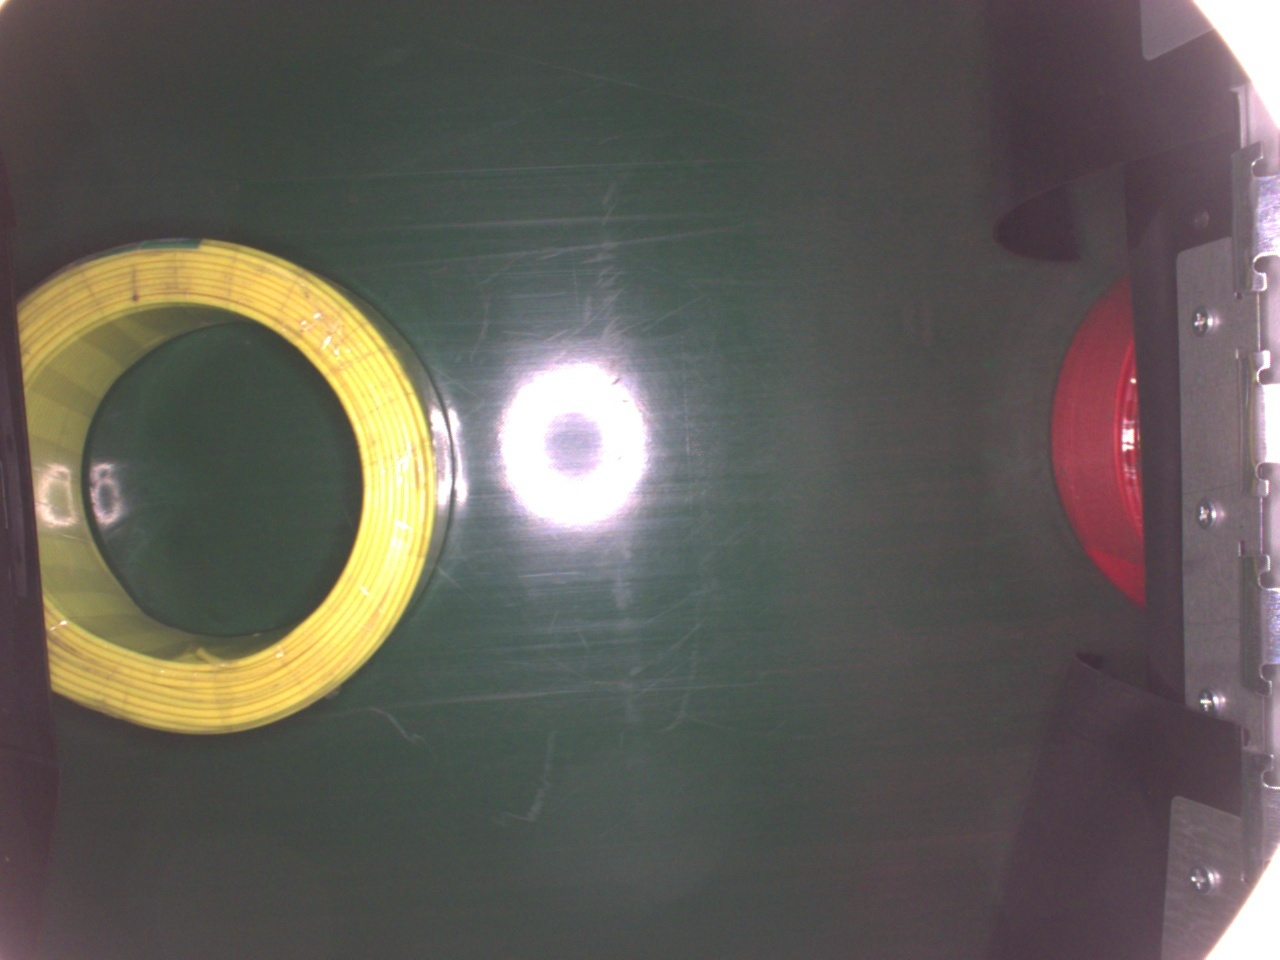yellow: (13, 233, 455, 738)
